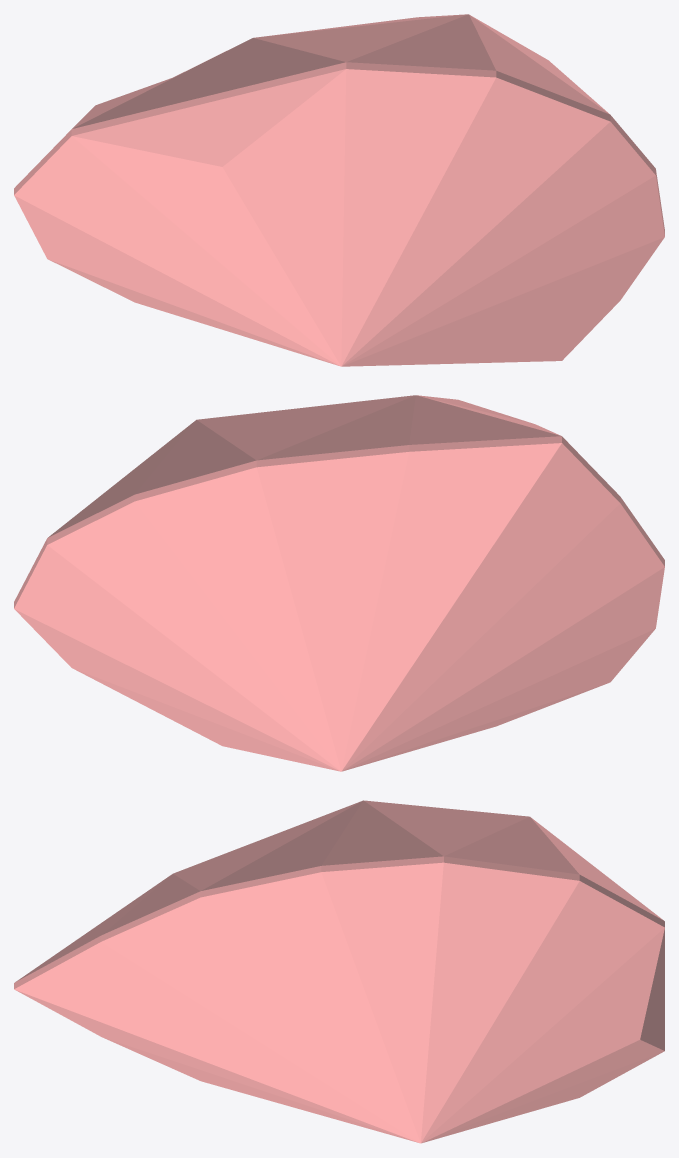
The model's file is january2.glb.
3 renders of one model, top to bottom at view 1: azimuth 30°, elevation 25°; view 2: azimuth 150°, elevation 25°; view 3: azimuth 270°, elevation 25°, orthographic. The views are drawn at different scales.
Parts seen in each view (by area): view 1: garnet; view 2: garnet; view 3: garnet.
Part boxes in pixels (bbox=[...]): garnet: bbox=[14, 14, 664, 366]; garnet: bbox=[14, 395, 664, 771]; garnet: bbox=[14, 800, 664, 1143].
Size of the model in its own units: 10668 by 5182 by 11582.
